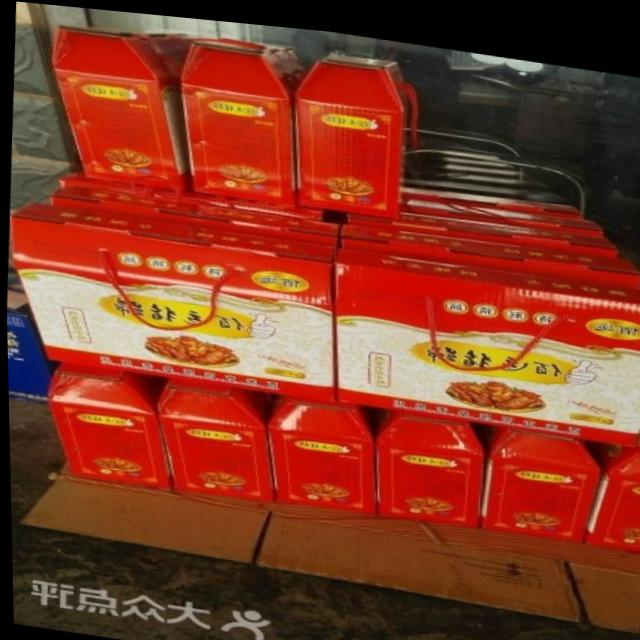box: (7, 202, 335, 396), (331, 239, 640, 435), (47, 24, 194, 189), (175, 34, 307, 202), (293, 45, 409, 213), (335, 216, 640, 275), (47, 184, 337, 239), (47, 361, 171, 486), (152, 375, 270, 496), (482, 416, 600, 533), (265, 389, 375, 508), (375, 403, 486, 519), (346, 205, 616, 244), (401, 189, 605, 221), (583, 430, 640, 539)
